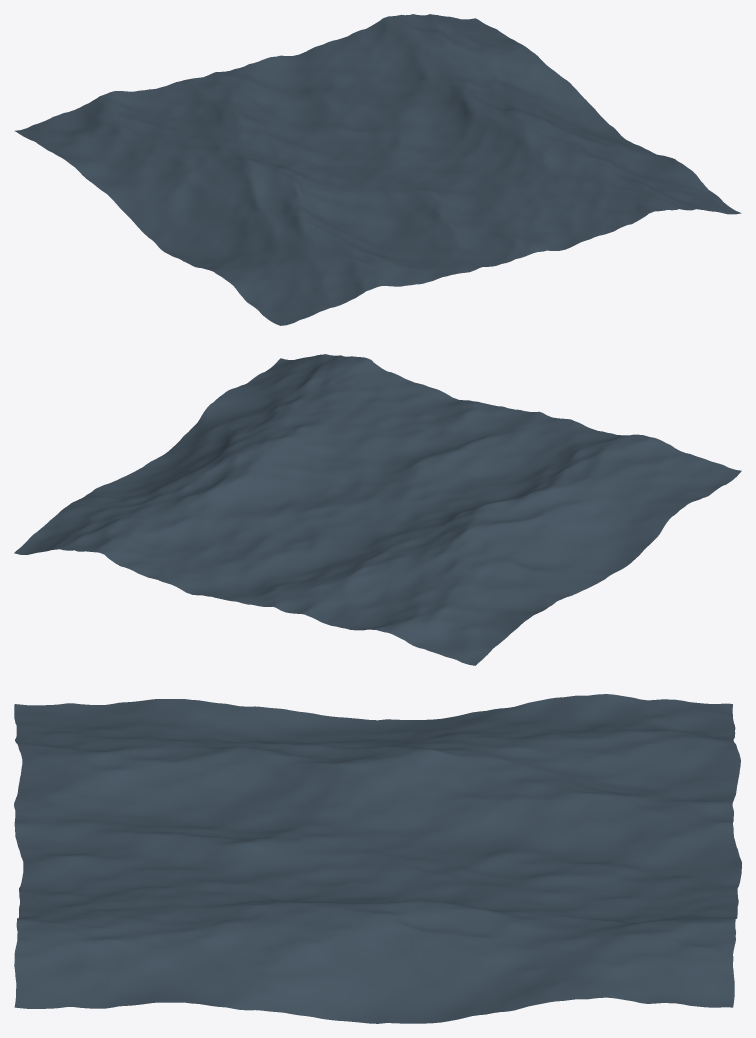
File: animatedOcean.glb
3 views of the same model, one above another, from view 1: azimuth 30°, elevation 25°; view 2: azimuth 150°, elevation 25°; view 3: azimuth 270°, elevation 25° (orthographic). The views are drawn at different scales.
Parts seen in each view (by area): view 1: Plane; view 2: Plane; view 3: Plane.
Part boxes in pixels (left/top/right/bottom): Plane: left=15, top=14, right=741, bottom=325; Plane: left=14, top=354, right=741, bottom=665; Plane: left=14, top=694, right=741, bottom=1023.
Size of the model in its own units: 50.95 by 3.76 by 50.66.
